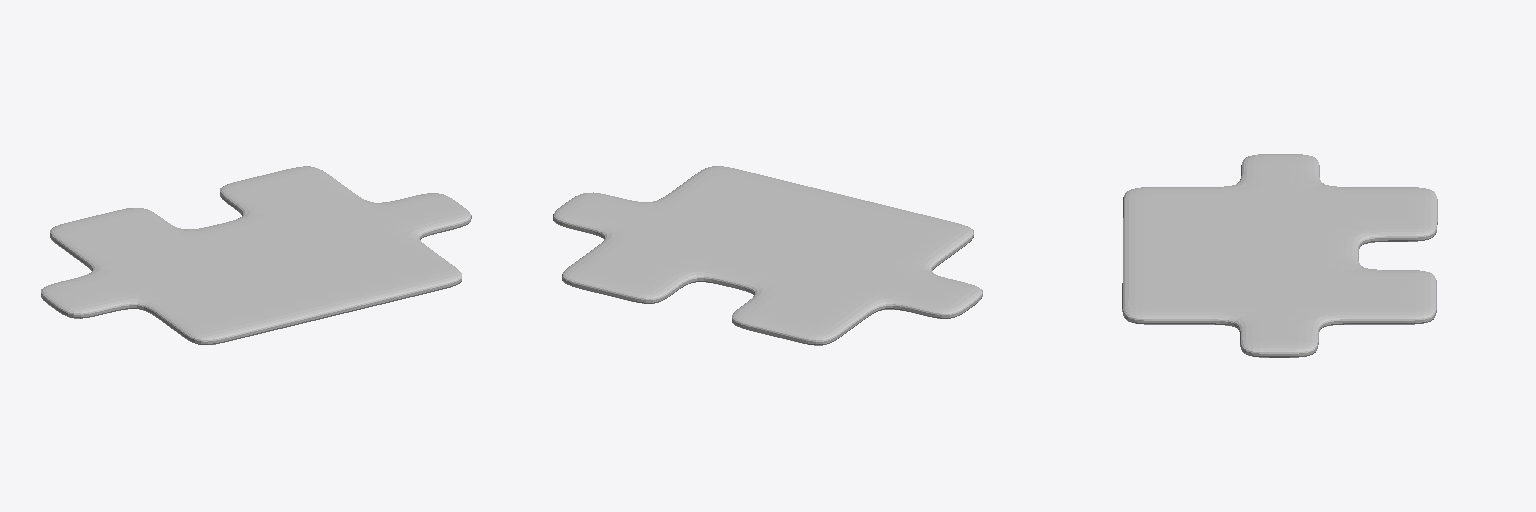
File: GoldenPuzzle-08-OMFM.obj
3 views of the same model, side by side, from view 1: azimuth 30°, elevation 25°; view 2: azimuth 150°, elevation 25°; view 3: azimuth 270°, elevation 25° (orthographic).
Visible parts, largest first — view 1: Puzzle.008; view 2: Puzzle.008; view 3: Puzzle.008.
Part boxes in pixels (x1,y1,x2,y2): Puzzle.008: (41, 166, 471, 344); Puzzle.008: (553, 166, 982, 345); Puzzle.008: (1122, 154, 1437, 357).
Size of the model in its own units: 0.375 by 0.0092 by 0.2513.